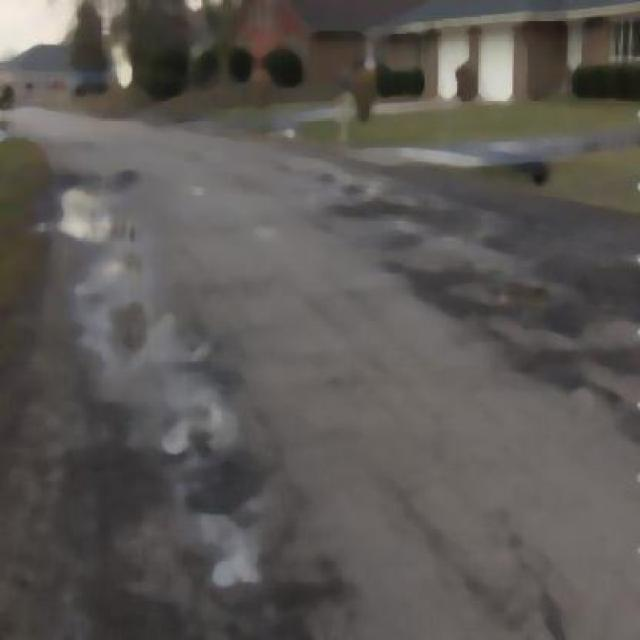Pothole: (187, 494, 265, 608), (48, 173, 124, 255), (163, 398, 235, 445), (486, 272, 563, 314), (380, 201, 434, 222)
